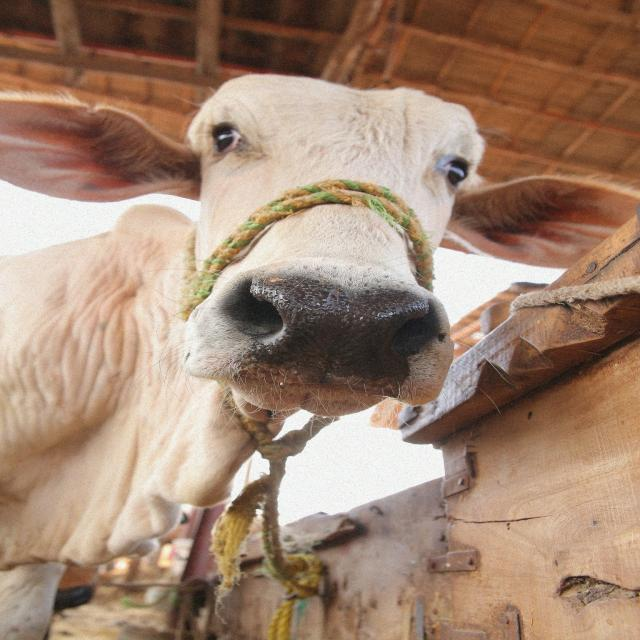muzzles: (236, 267, 447, 401)
